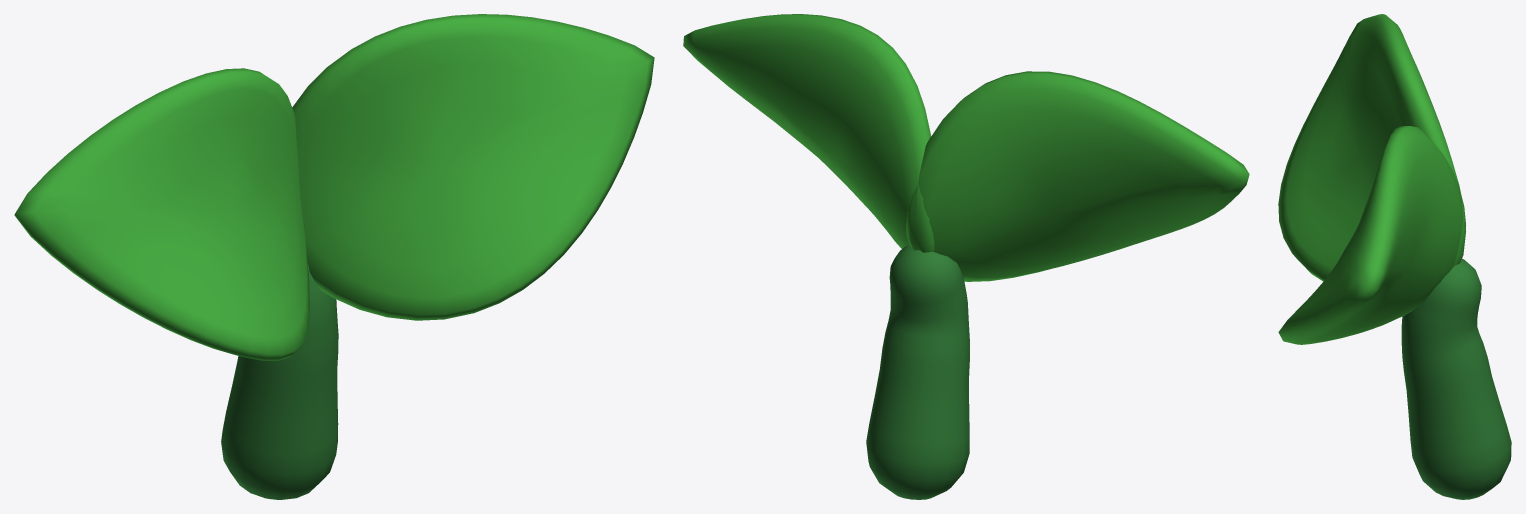
The model's file is sprout.glb.
3 renders of one model, left to right at view 1: azimuth 30°, elevation 25°; view 2: azimuth 150°, elevation 25°; view 3: azimuth 270°, elevation 25°, orthographic. The views are drawn at different scales.
Visible parts, largest first — view 1: sprout_leaf, sprout_stem; view 2: sprout_leaf, sprout_stem; view 3: sprout_leaf, sprout_stem.
Boxes of the visible parts, x1=… form: sprout_leaf: x1=14, y1=14, x2=654, y2=360; sprout_stem: x1=221, y1=264, x2=338, y2=499; sprout_leaf: x1=683, y1=14, x2=1249, y2=281; sprout_stem: x1=866, y1=246, x2=969, y2=499; sprout_leaf: x1=1278, y1=14, x2=1465, y2=344; sprout_stem: x1=1401, y1=258, x2=1511, y2=499.
Bounding box in the file's own units: 0.5002 × 0.3549 × 0.1852.
